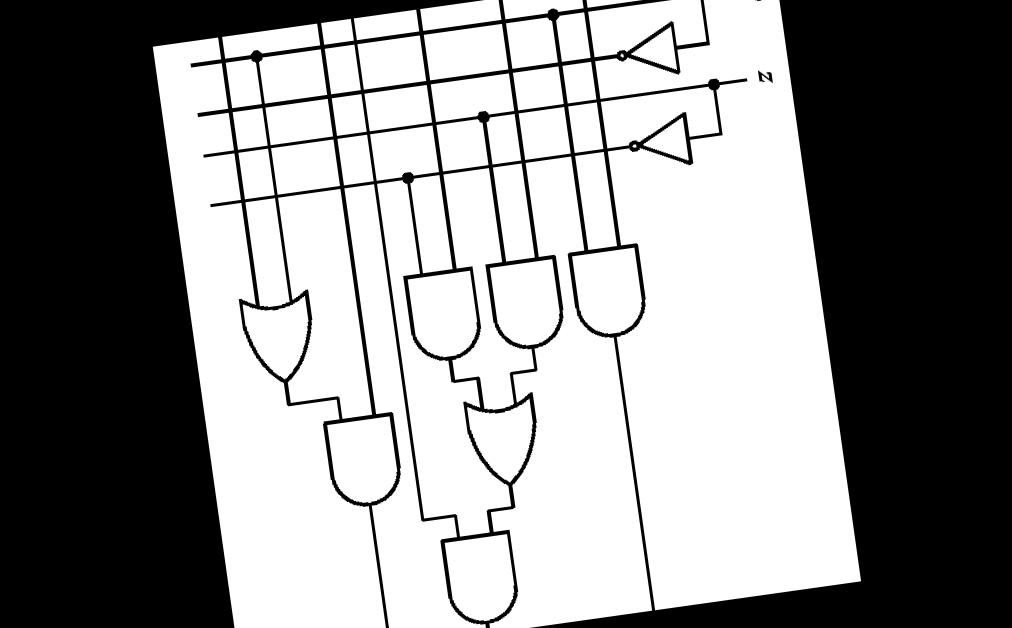and: (560, 236, 656, 350), (316, 407, 410, 517), (479, 249, 572, 359), (397, 263, 490, 372), (434, 523, 526, 628)
not: (618, 106, 699, 178), (607, 17, 686, 86)
or: (231, 284, 326, 394), (456, 386, 550, 496)
